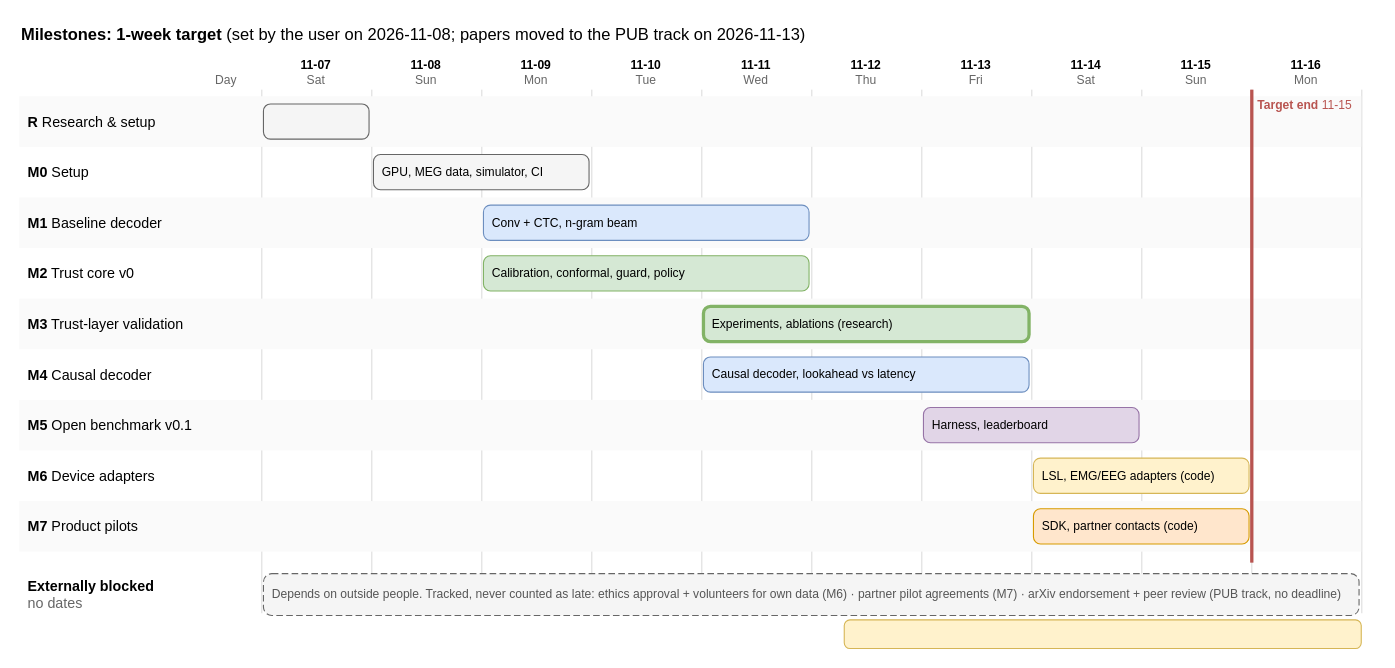
Image size: 1395x668. Some labels were removed from this diagram. The centre of each missing label's shape, as x and y in pixels:
"Done" goes at (315,121).
"Targets set by the user. Actual dates and effort: wiki/progress/index.html" goes at (1102,633).
